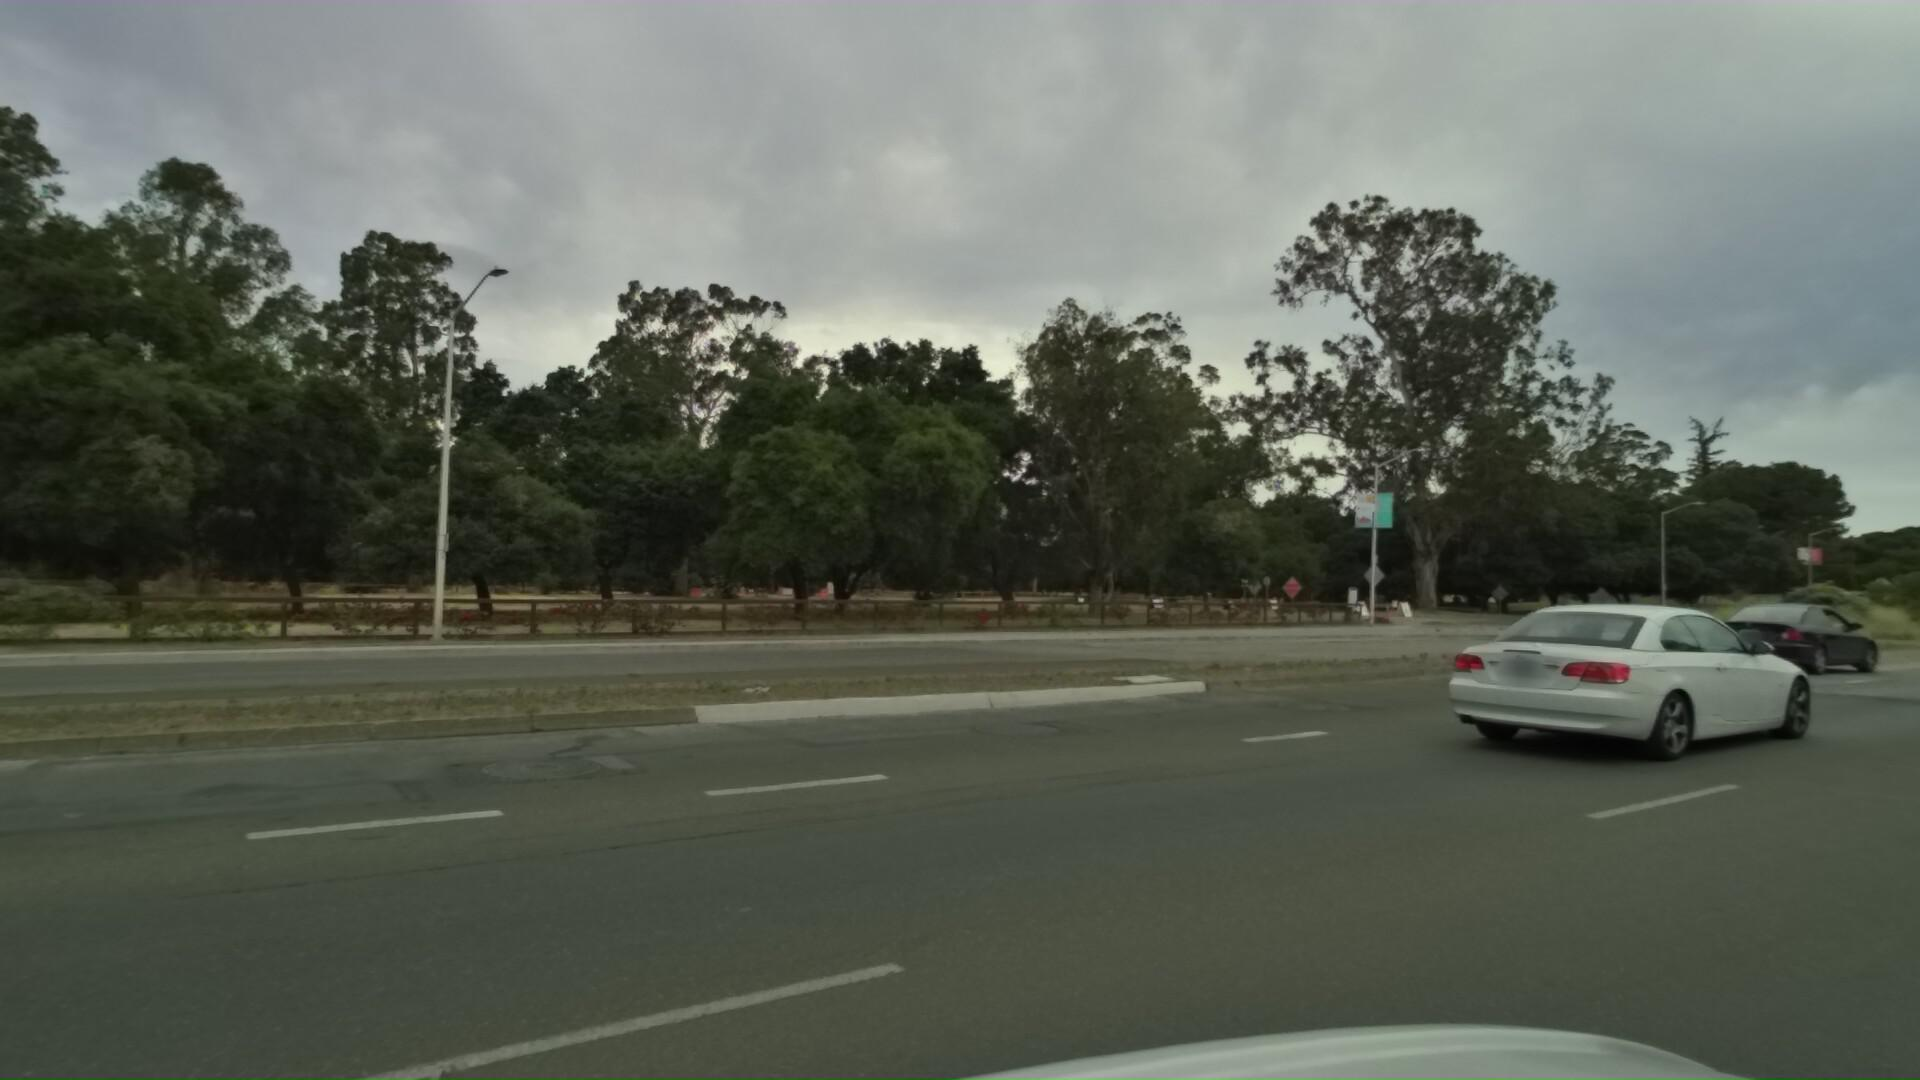car: (1433, 597, 1849, 775), (1693, 593, 1882, 680)
